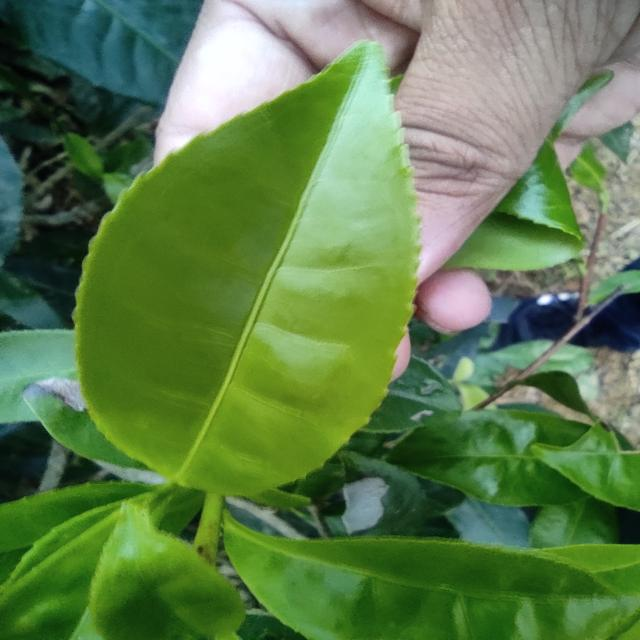Category C(4-7 days): (45, 24, 459, 503)
